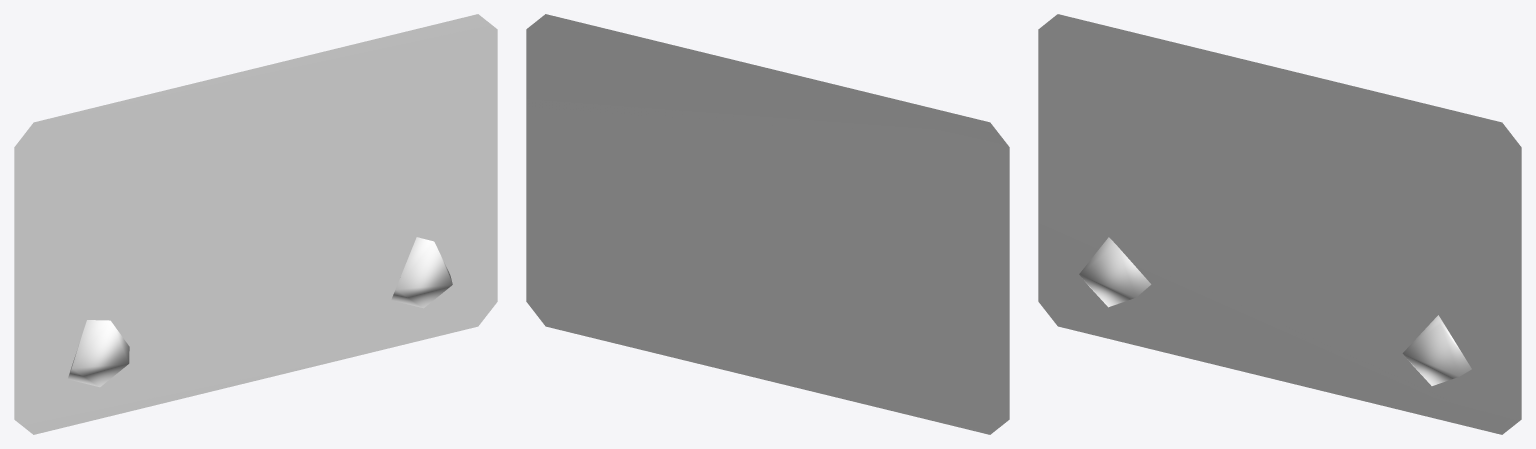
3 views of the same model, side by side, from view 1: azimuth 30°, elevation 25°; view 2: azimuth 150°, elevation 25°; view 3: azimuth 330°, elevation 25° (orthographic).
Bounding box in the file's own units: 0.1685 × 0.1042 × 0.00549.
1 material, 1 textured.
